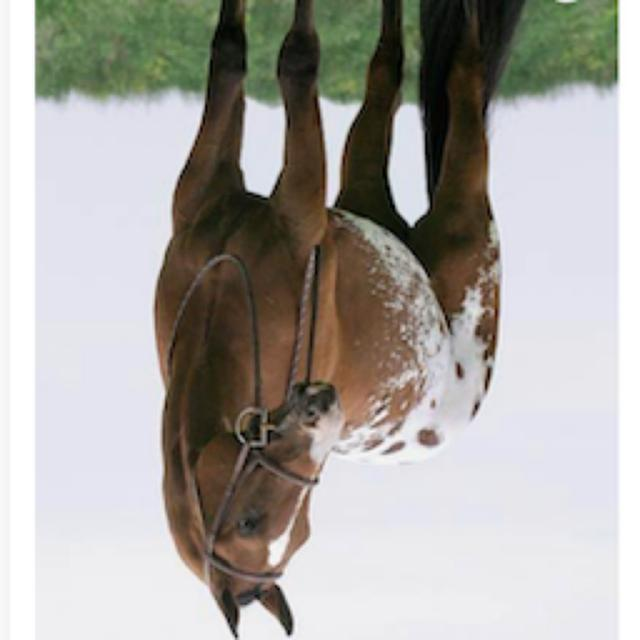Horse: (142, 2, 550, 640)
